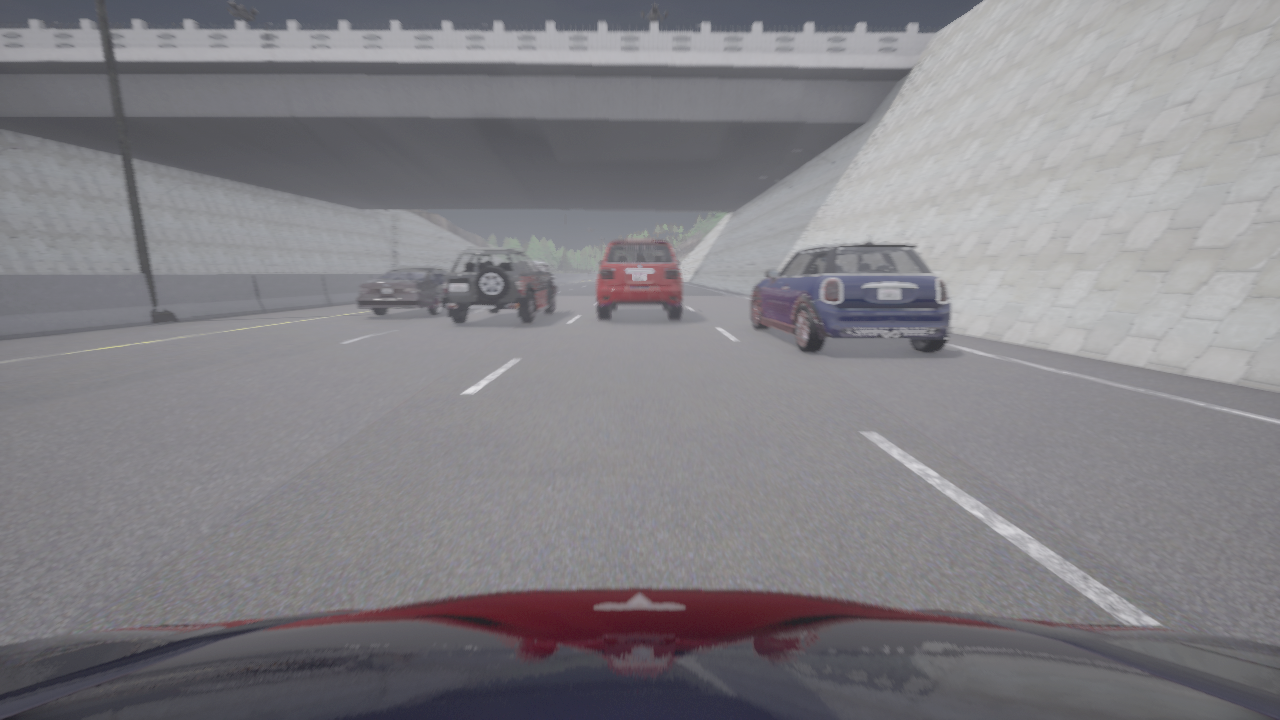cyclist: (0, 588, 1279, 719), (751, 235, 952, 351), (441, 248, 556, 323), (597, 239, 682, 319), (356, 267, 448, 315), (533, 260, 553, 275)
